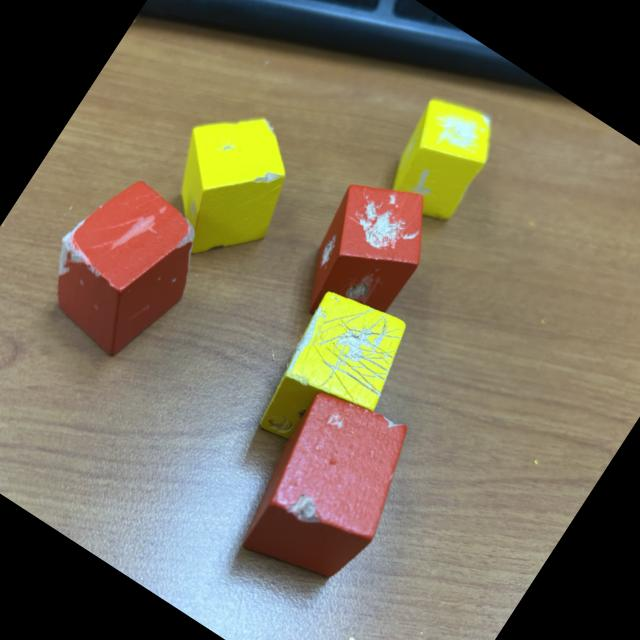broken: (222, 374, 434, 606), (21, 160, 224, 372), (133, 88, 320, 284), (242, 276, 424, 476), (278, 158, 452, 350), (372, 84, 509, 231)
